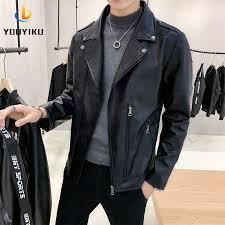jacket: (52, 8, 194, 202)
